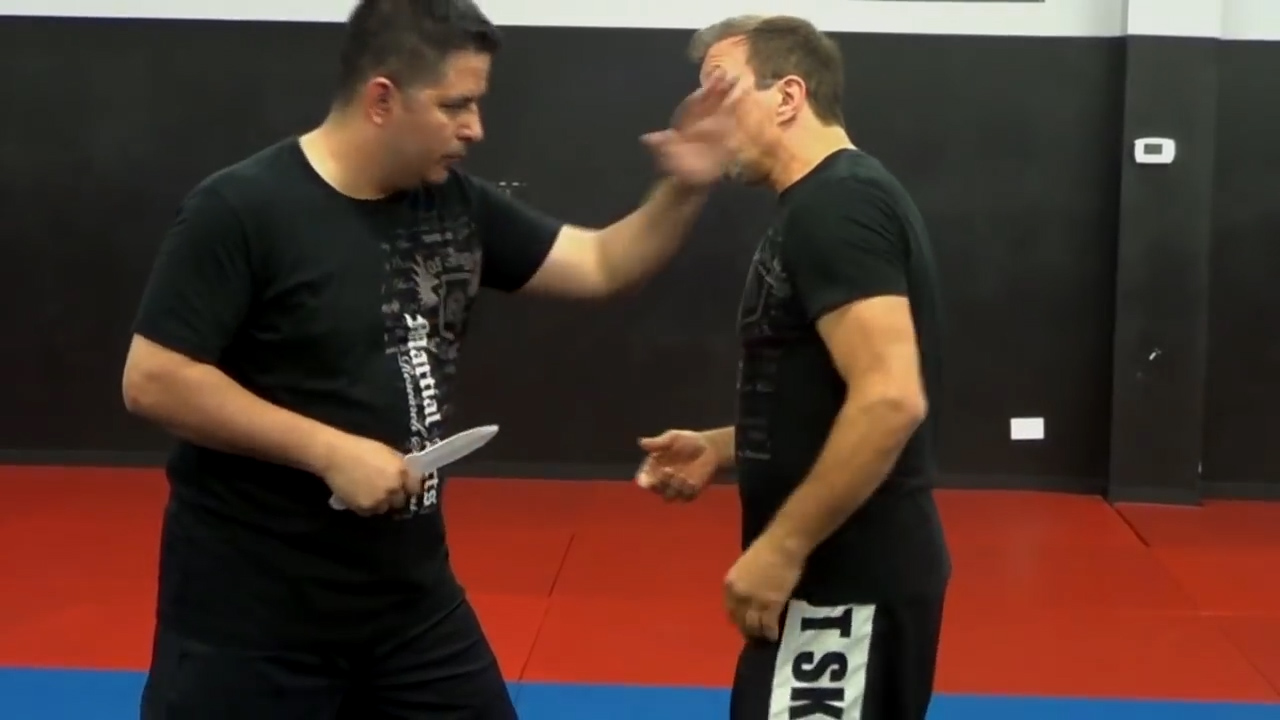knife: (324, 418, 504, 518)
